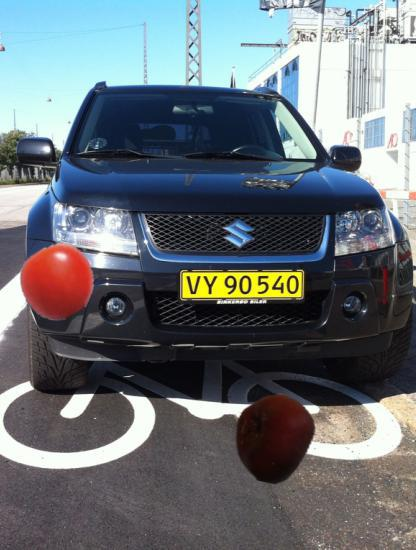Nectarine: (229, 393, 319, 483)
Tomato: (20, 244, 96, 320)
